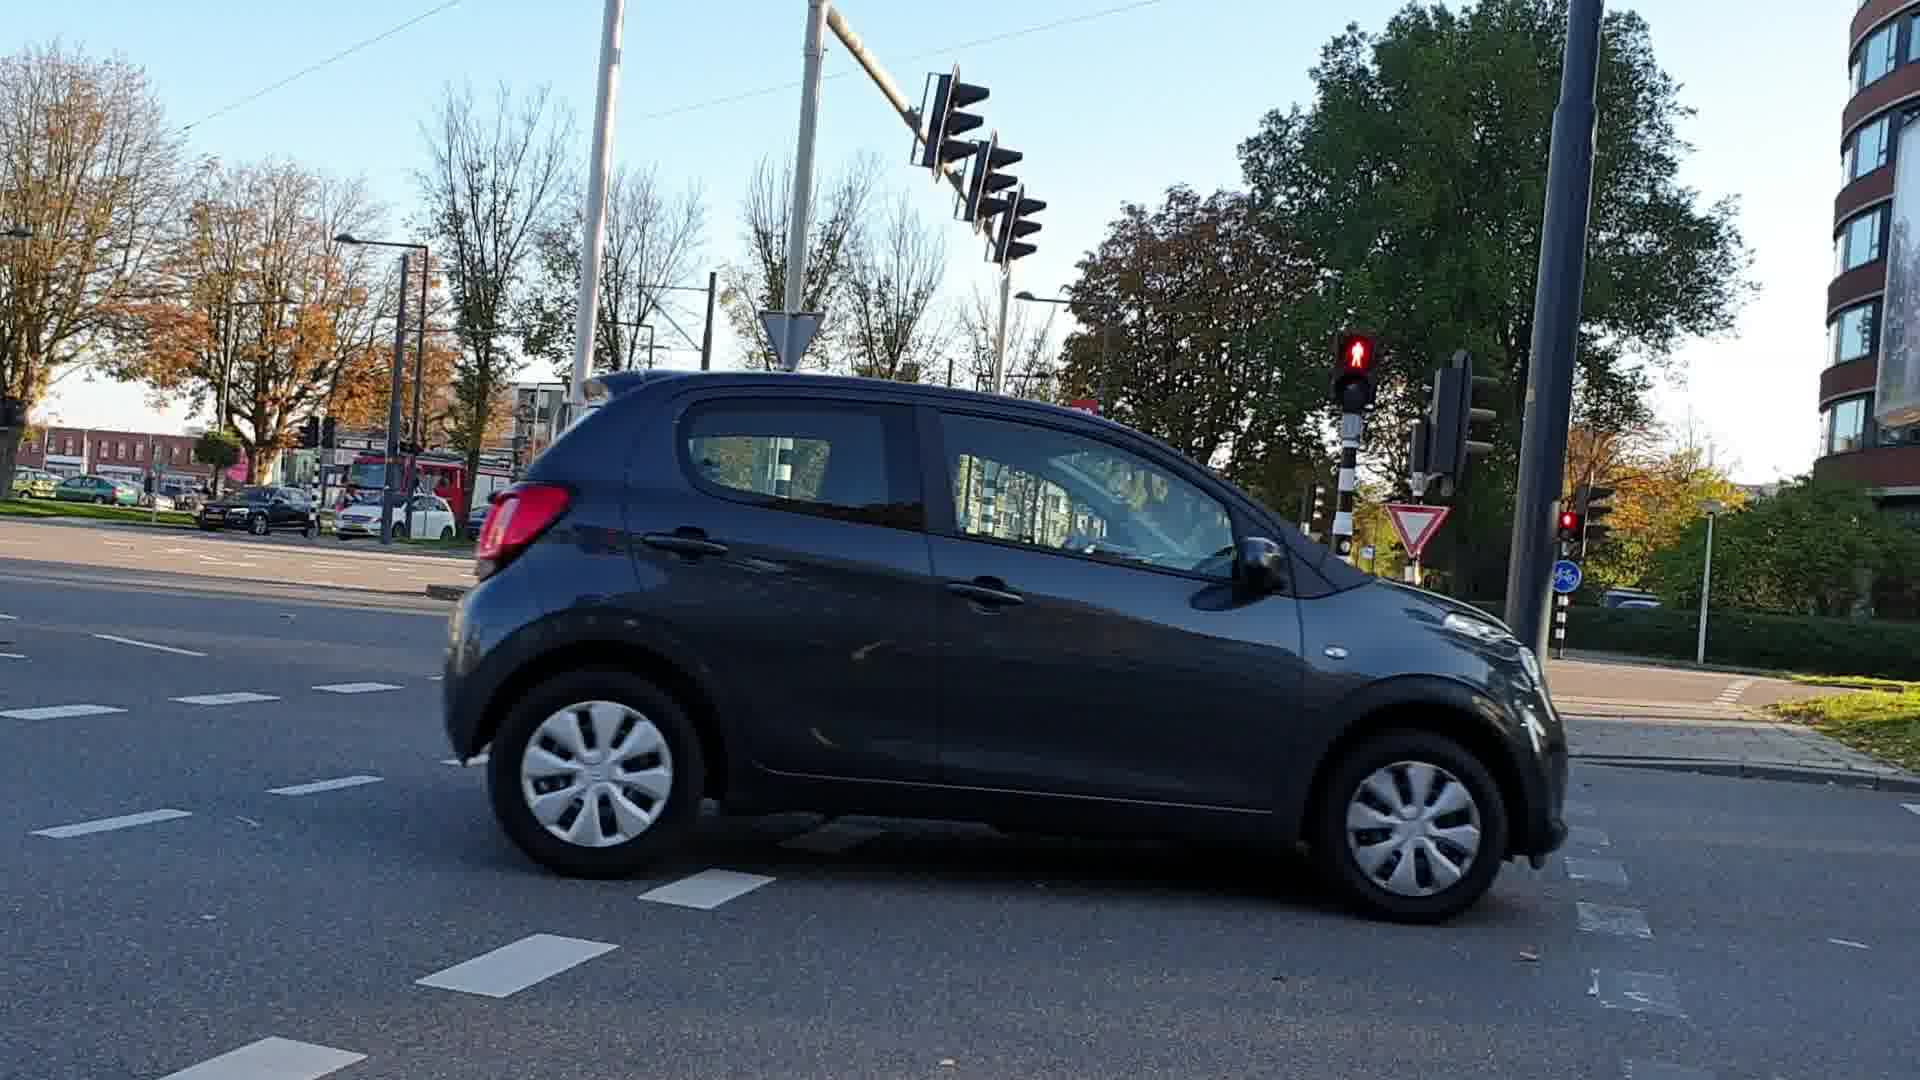car: (427, 369, 1572, 910)
